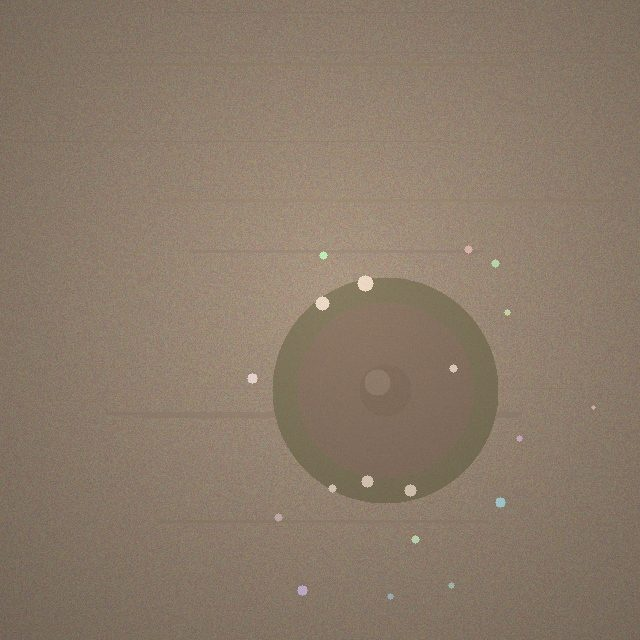overburn: (272, 277, 498, 503)
